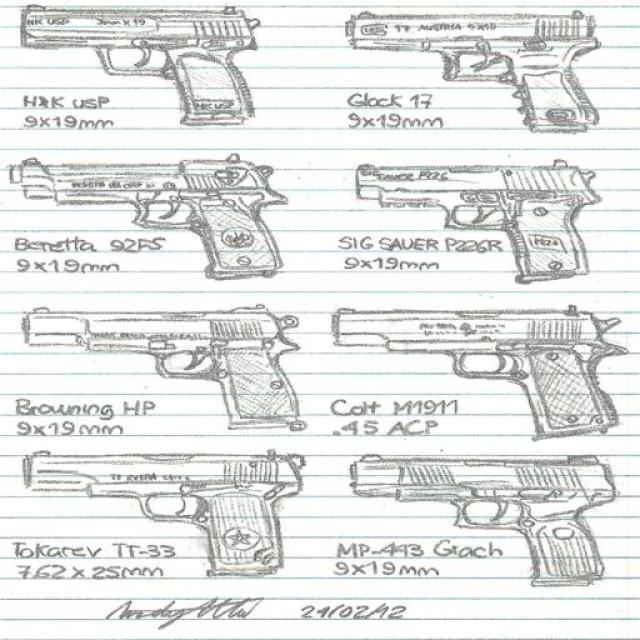pistol: (17, 443, 297, 591), (332, 303, 622, 439), (6, 302, 306, 430), (349, 451, 615, 593), (4, 155, 289, 282), (349, 157, 599, 285), (343, 9, 604, 131), (17, 1, 261, 121)
